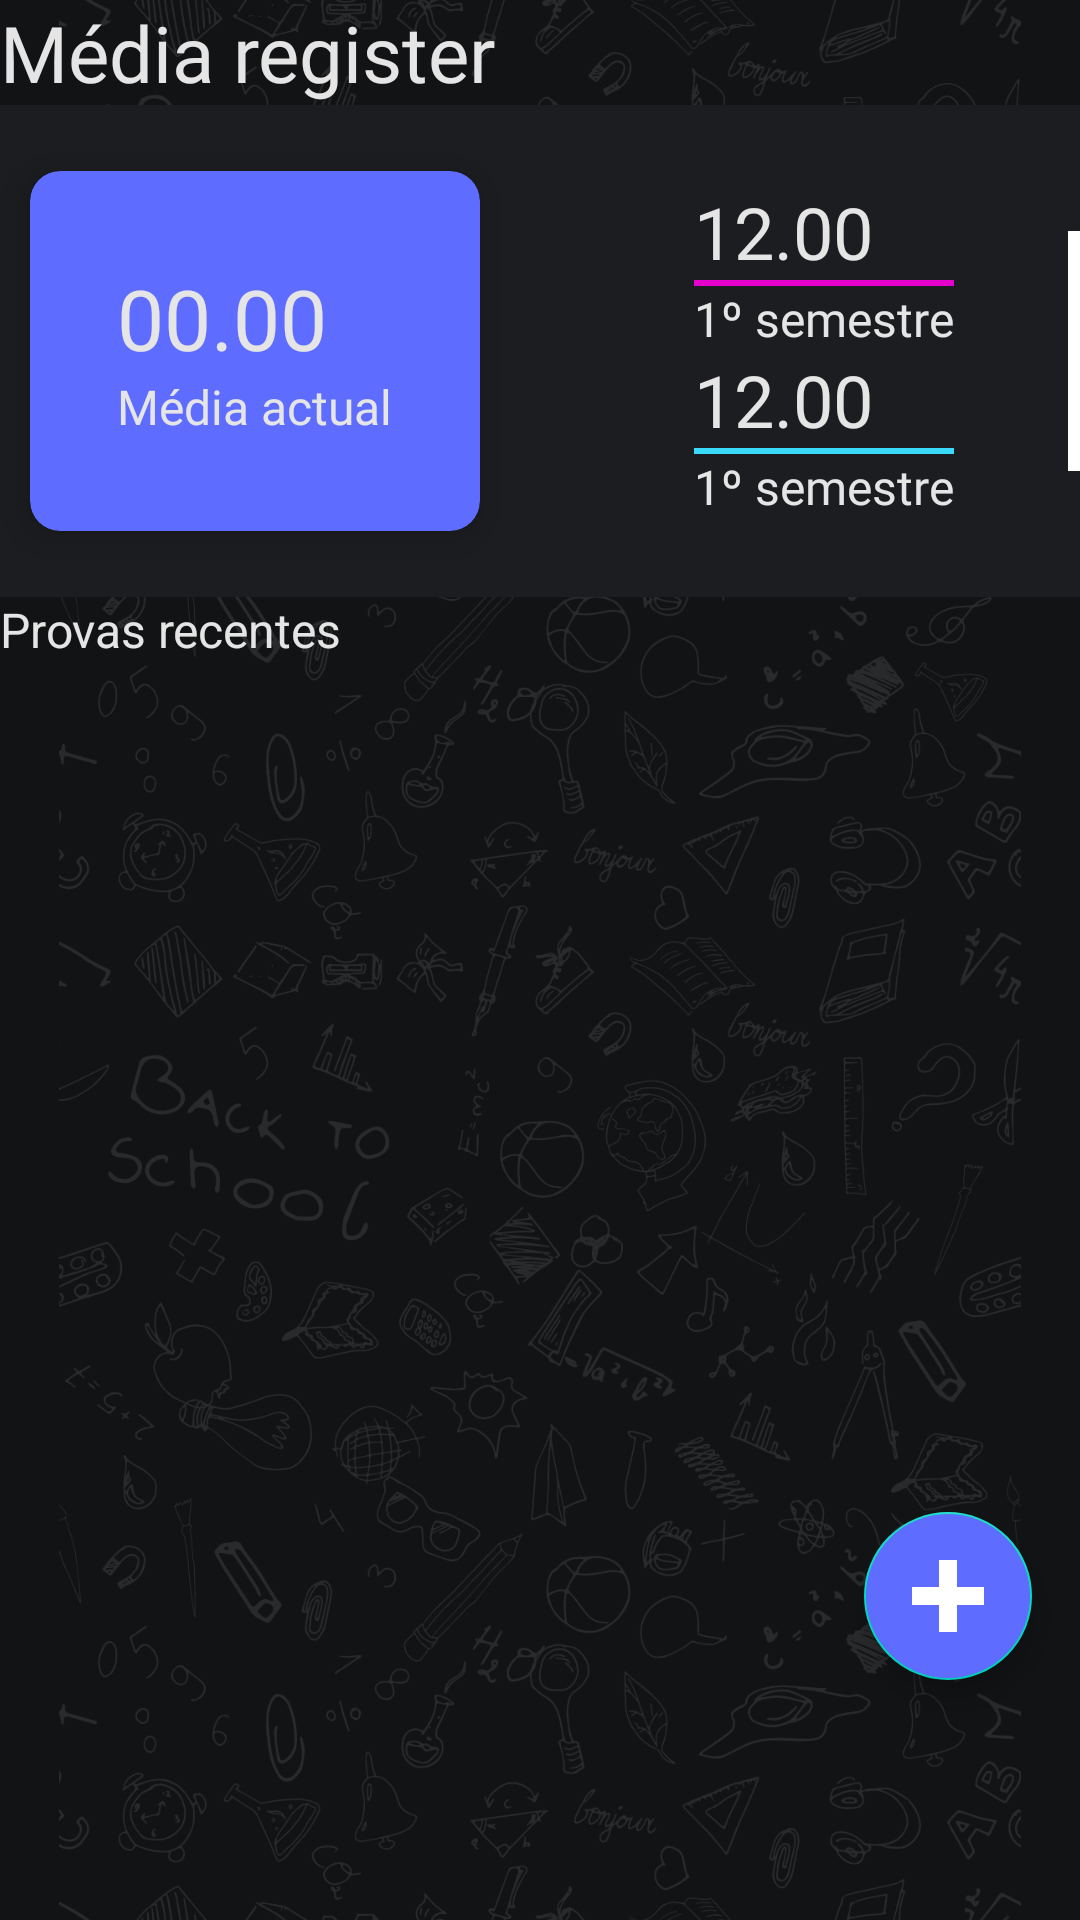

Where icons sit on this 1080w x 1920h app screen, as [x1,y1,x2,y2]:
open plus: [864,1512,1032,1680]
